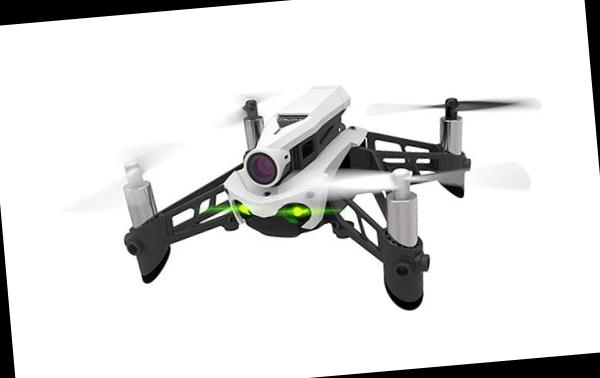drone: (78, 43, 526, 305)
